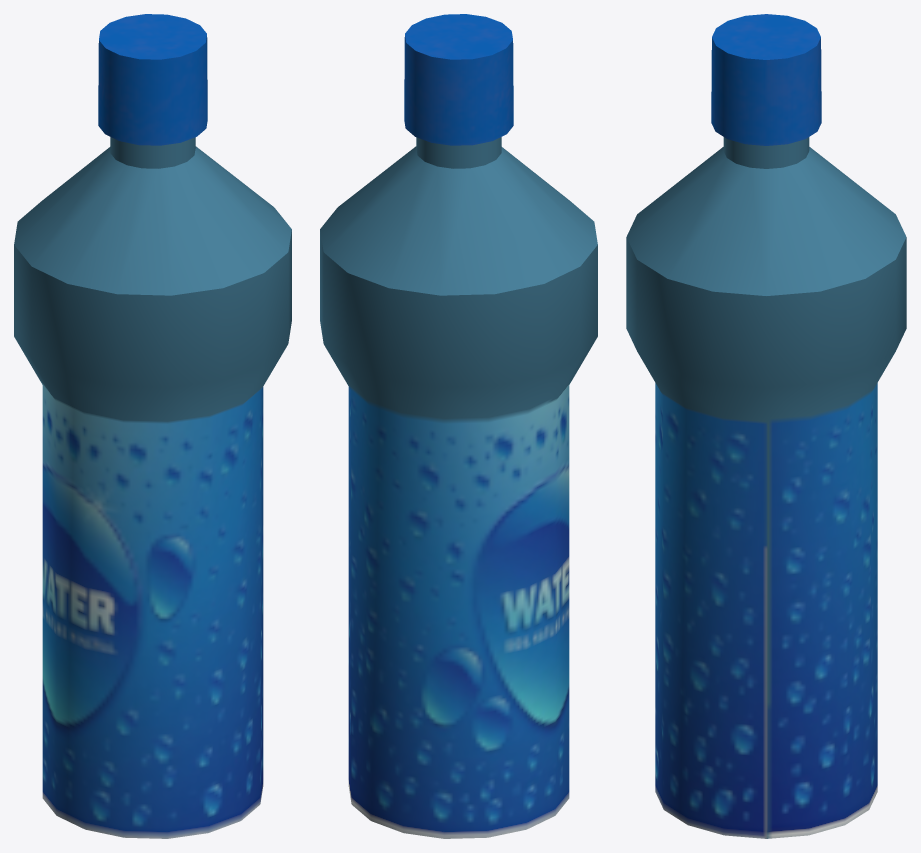
File: CR_Plastic_bottle.fbx
3 renders of one model, left to right at view 1: azimuth 30°, elevation 25°; view 2: azimuth 150°, elevation 25°; view 3: azimuth 270°, elevation 25°, orthographic.
Parts seen in each view (by area): view 1: Plastic_bottle; view 2: Plastic_bottle; view 3: Plastic_bottle.
Boxes of the visible parts, <box> form: Plastic_bottle: <box>14,14,291,838</box>; Plastic_bottle: <box>320,14,597,838</box>; Plastic_bottle: <box>626,14,906,838</box>.
Bounding box in the file's own units: 10.65 × 31.67 × 10.65.
